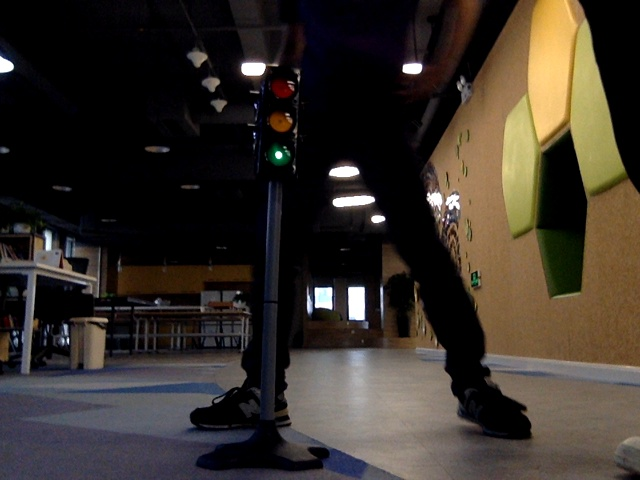green: (265, 75, 292, 162)
